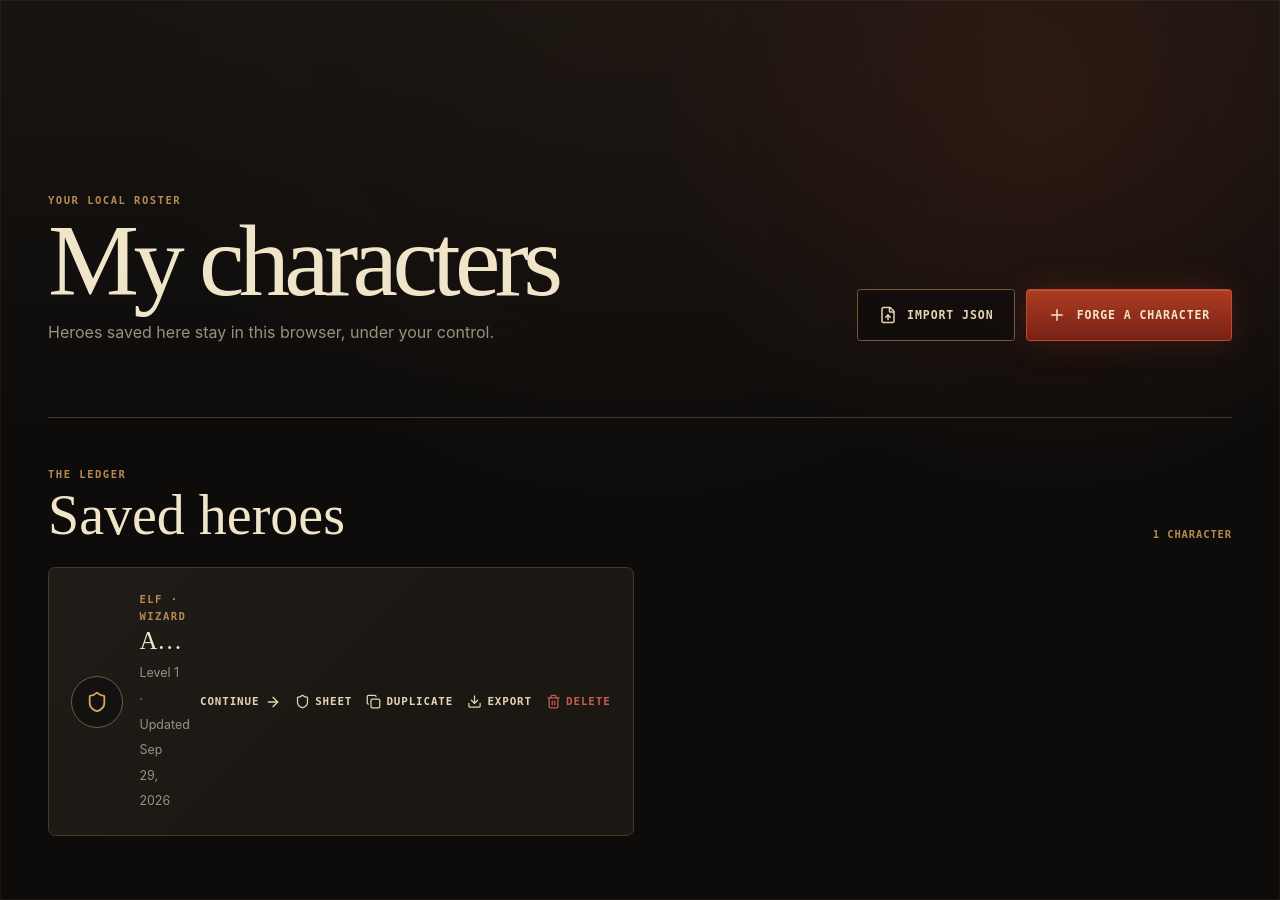
Test: MyCharactersPage › requires confirmation and allows deletion to be cancelled
The width and height of the screenshot is (1280, 900).
Click the button with aria-label "Delete Arannis": [578, 702] box [546,694,611,709]
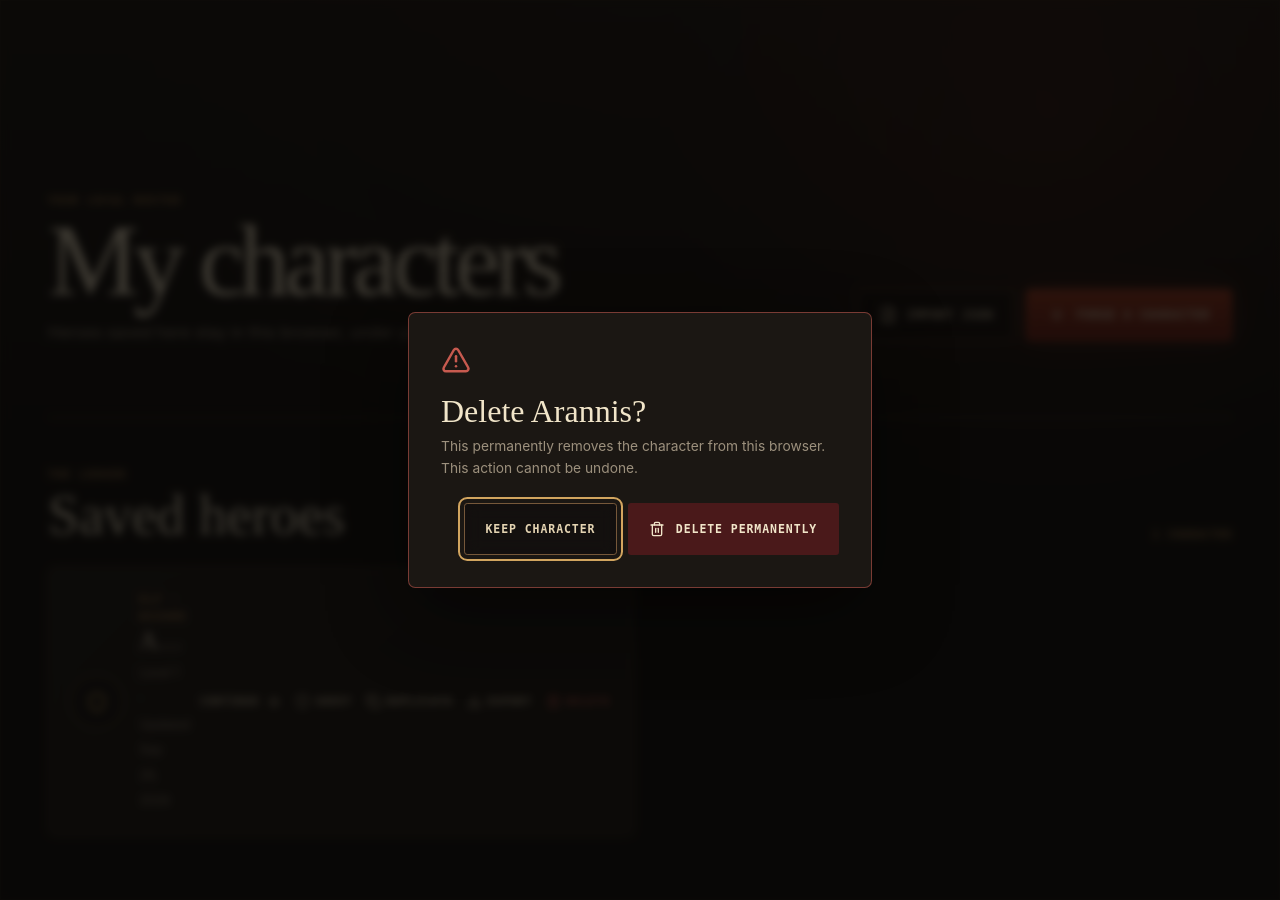
Result: the text "cannot be undone" is shown at [441,438,825,476]
Click the button "Keep character": [540, 529] box [464,503,617,555]
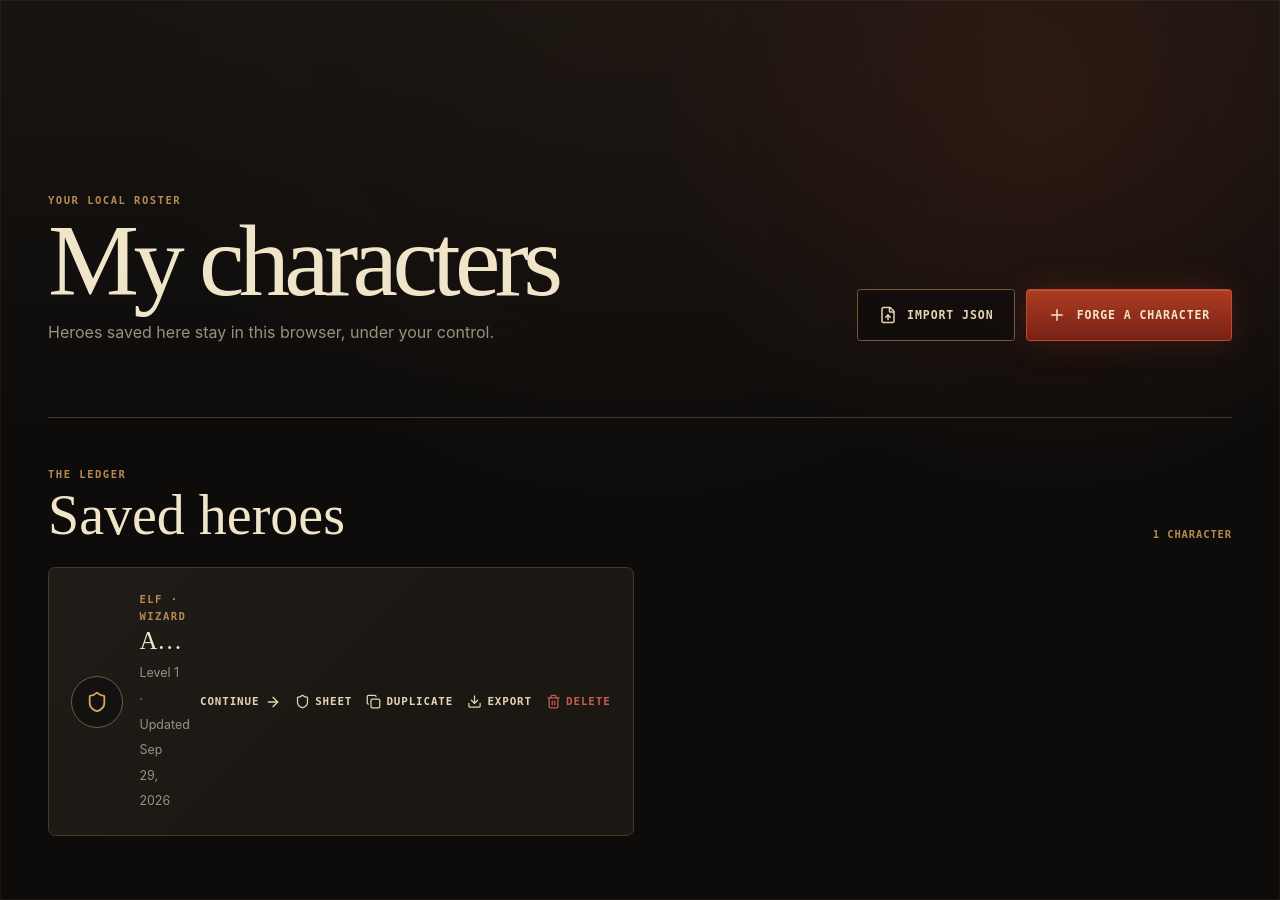
Expected: the heading "Arannis" is shown, [139,627,184,655]
Result: the dialog is gone
